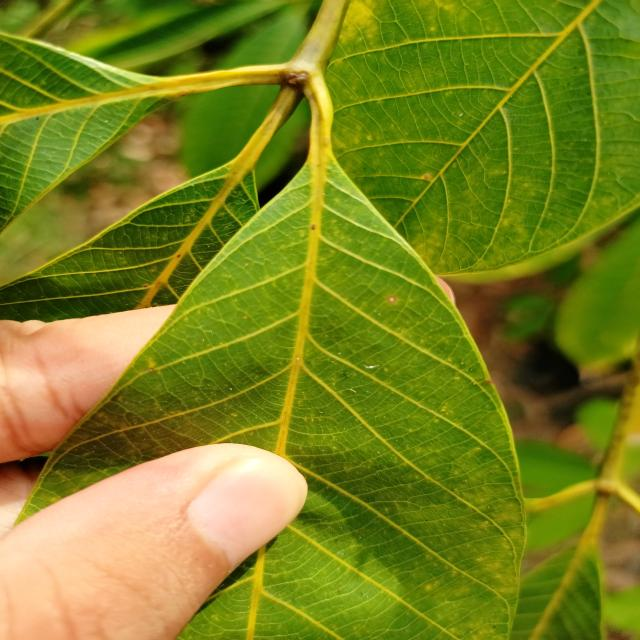Colletotrichum: (388, 296, 396, 302)
